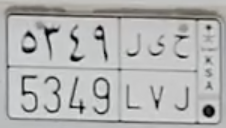3: (43, 25, 62, 114)
4: (68, 23, 87, 116)
5: (19, 29, 39, 114)
9: (92, 24, 111, 115)
J: (173, 33, 191, 112)
L: (125, 31, 143, 111)
V: (146, 34, 165, 111)
